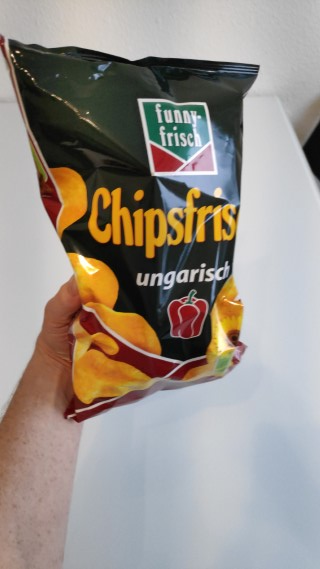chipsfrisch: (1, 33, 262, 421)
